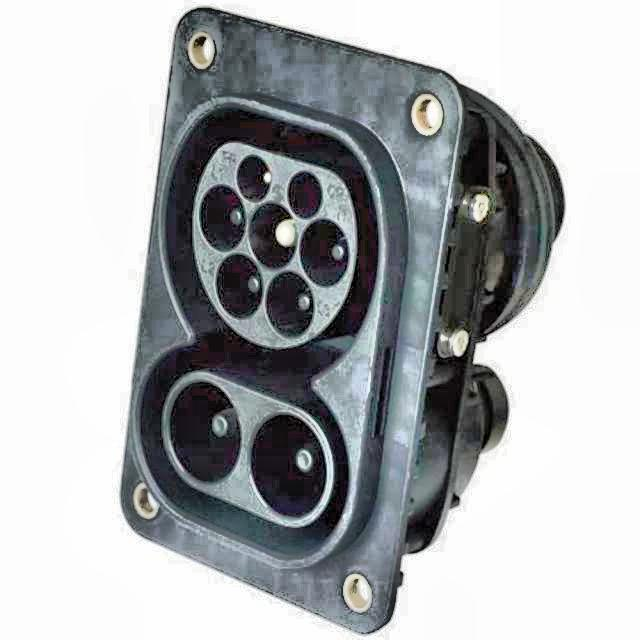inlet: (193, 141, 357, 349)
inlet-above-left: (236, 155, 272, 202)
inlet-above-right: (288, 171, 323, 219)
inlet-below-left: (214, 253, 264, 320)
inlet-below-right: (265, 270, 315, 338)
inlet-center: (247, 201, 299, 271)
inlet-center-left: (200, 184, 248, 252)
inlet-center-right: (299, 218, 349, 287)
